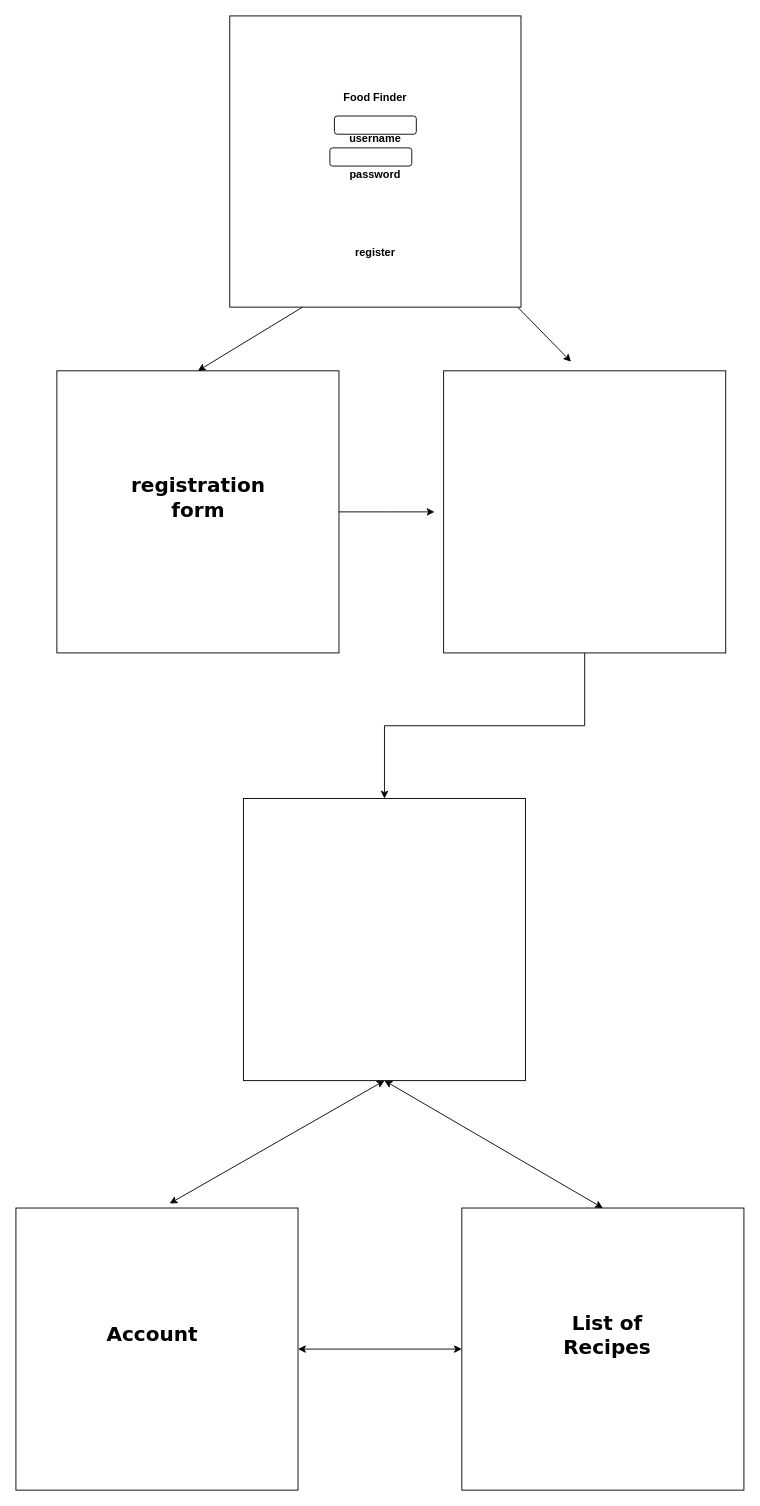
The diagram is 760 pixels wide and 1506 high, and some of its shapes have lost their labels. The shapes that lost their labels are listed below. From the top down, each one's centre as x and y in pixels, then its label:
At [584,511]: "loggin form".
At [384,939]: "carrusel".
